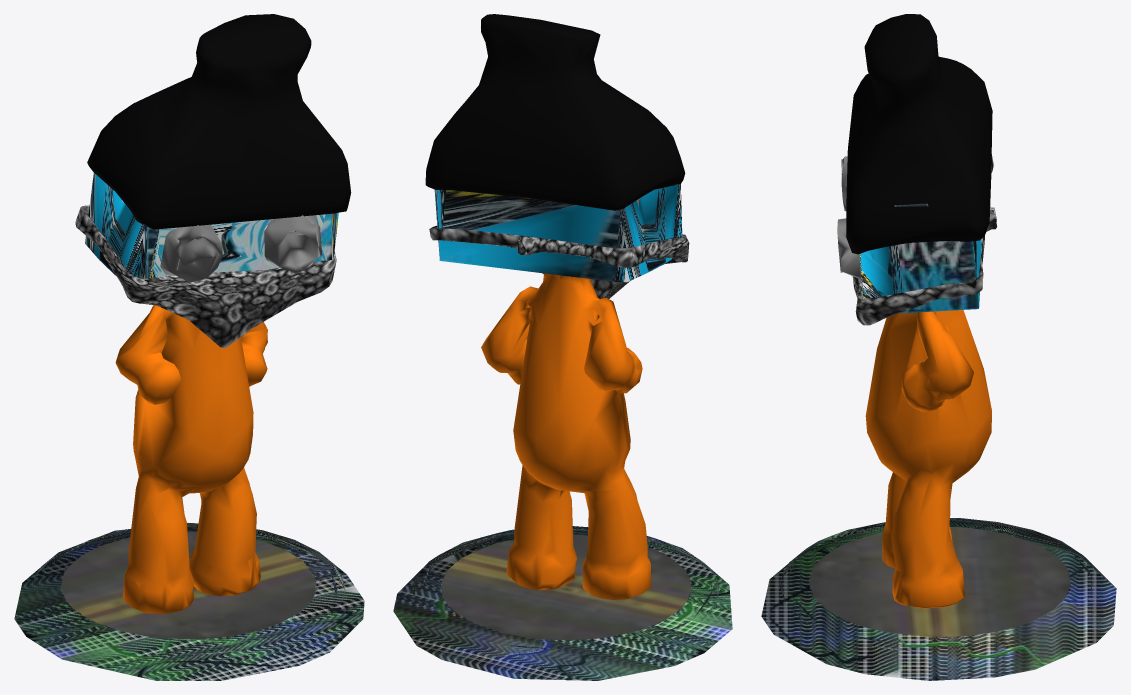
3 views of the same model, side by side, from view 1: azimuth 30°, elevation 25°; view 2: azimuth 150°, elevation 25°; view 3: azimuth 270°, elevation 25° (orthographic). The views are drawn at different scales.
Size of the model in its own units: 1.44 by 2.63 by 1.42.
Materials: 7 (4 with a texture image).
